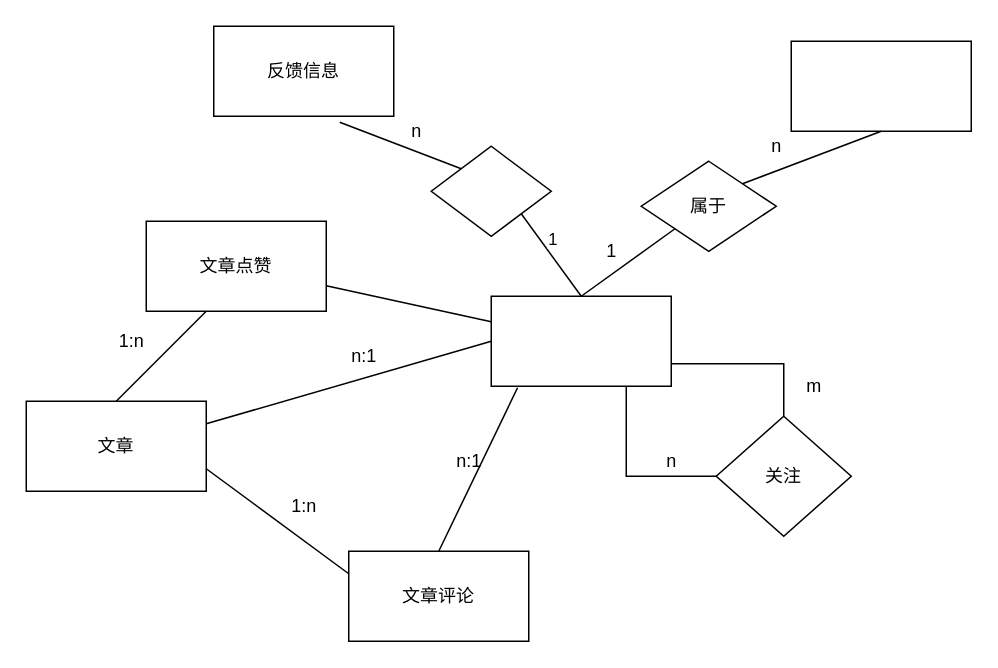
Some shapes in this 998 by 668 pixel diagram are drawn without their labels. The shapes that lost their labels are listed below. From the top down, each one's box as (x1, y1, x2, y2) in pixels, then its label:
(790, 40, 971, 131): 优惠券
(430, 145, 551, 236): 提交
(490, 295, 671, 386): 普通用户
